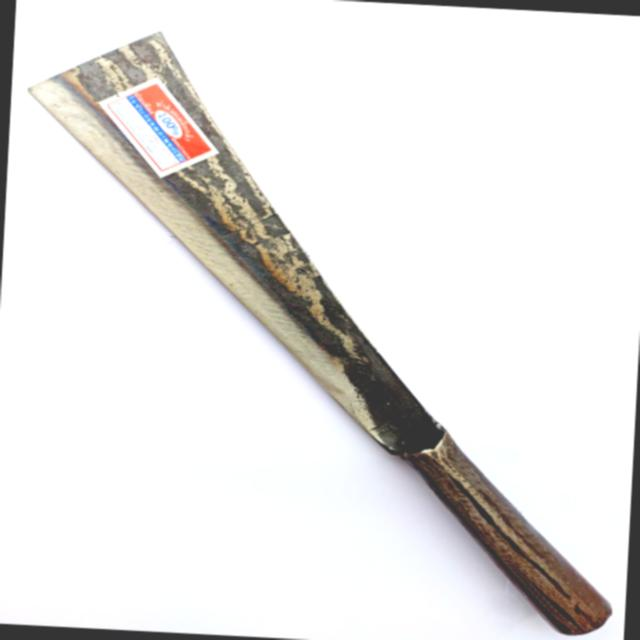eto: (23, 22, 619, 640)
